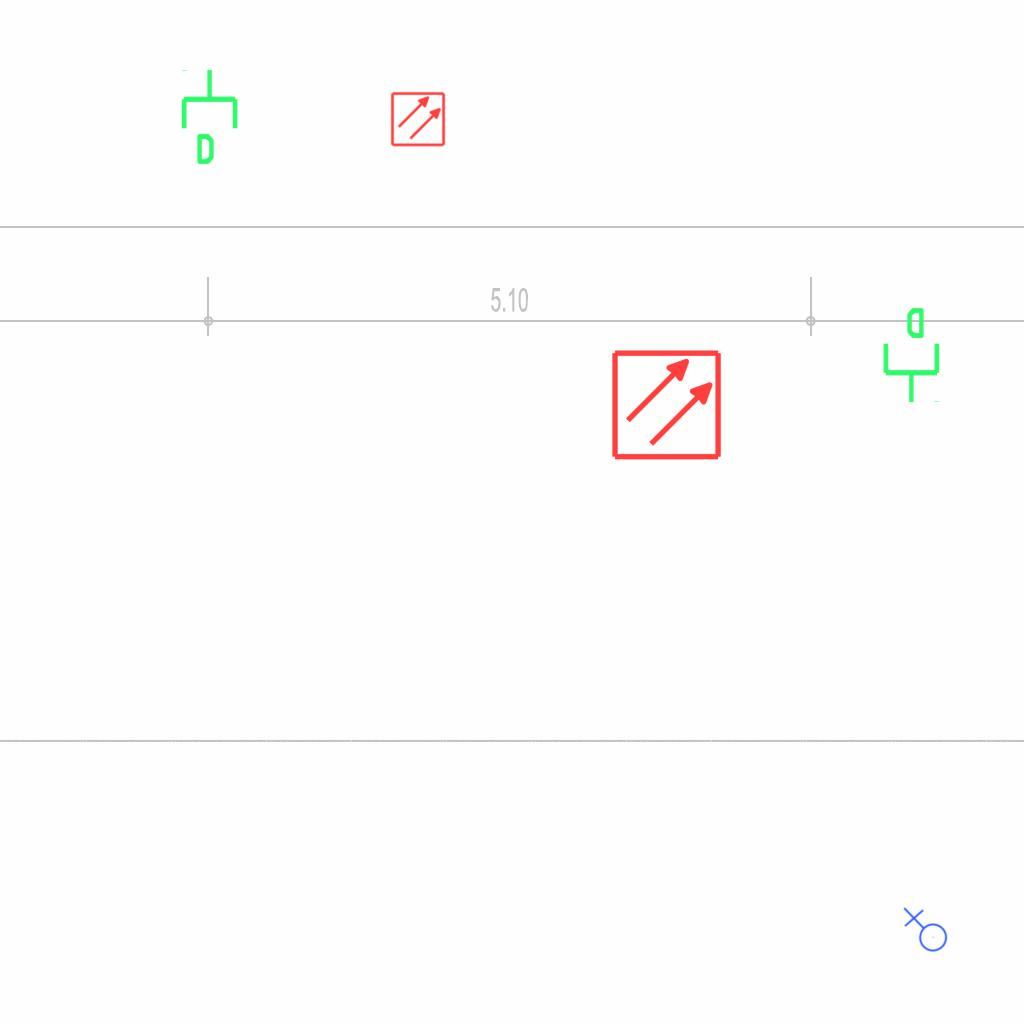Datenanschluss_einfach: (177, 67, 246, 167), (875, 305, 944, 405)
Elektroanschluss_allgemein_230V_Geraeteanschlussdose_230V: (901, 907, 948, 956)
RMO_Rauchmelder_optischer: (610, 348, 723, 461), (390, 91, 446, 147)
